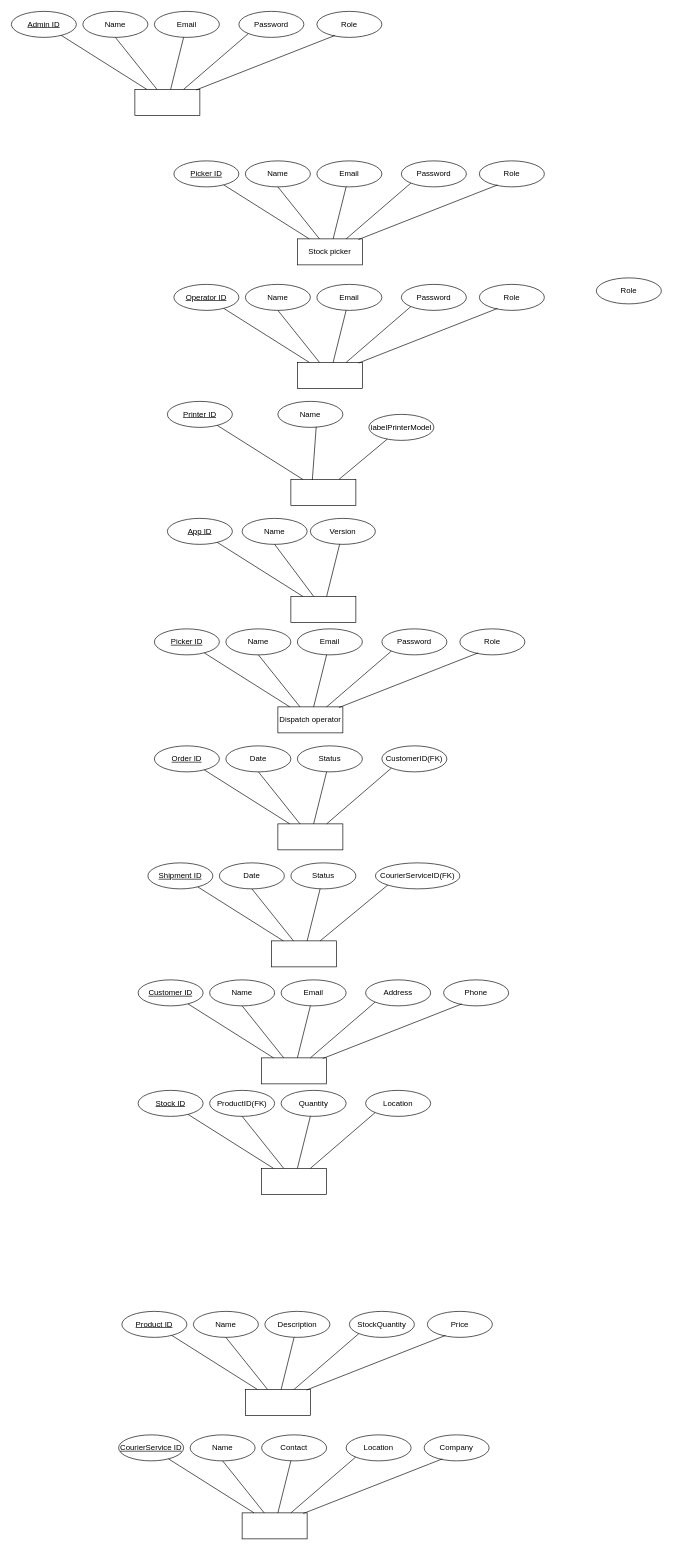
The diagram is 673 pixels wide and 1550 high, and some of its shapes have lost their labels. The box of each missing label's shape, as (x1, y1, x2, y2) in pixels:
Admin: (134, 89, 200, 115)
Courier Service: (241, 1512, 307, 1539)
Customer: (261, 1057, 327, 1084)
Label Generation Application: (290, 596, 356, 622)
Label Printer: (290, 479, 356, 505)
Order: (277, 823, 343, 850)
Packaging operator: (297, 362, 362, 388)
Product: (245, 1389, 310, 1415)
Shipment: (271, 940, 336, 967)
Stock: (261, 1168, 327, 1194)
